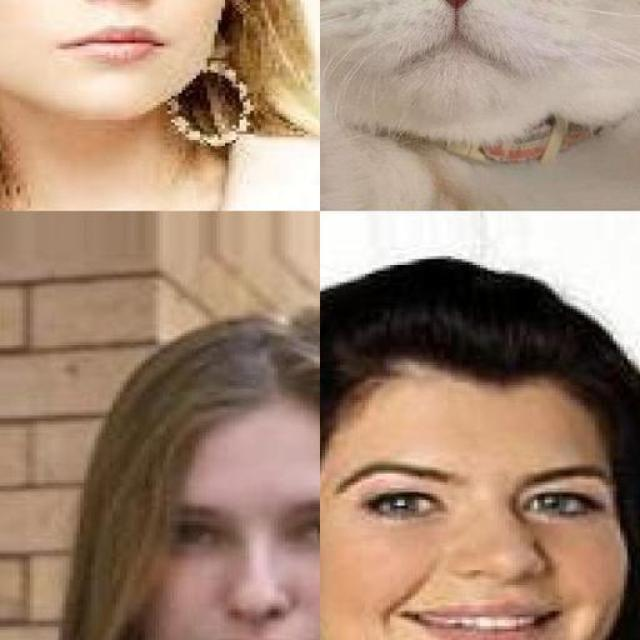bareface: (337, 299, 640, 640)
